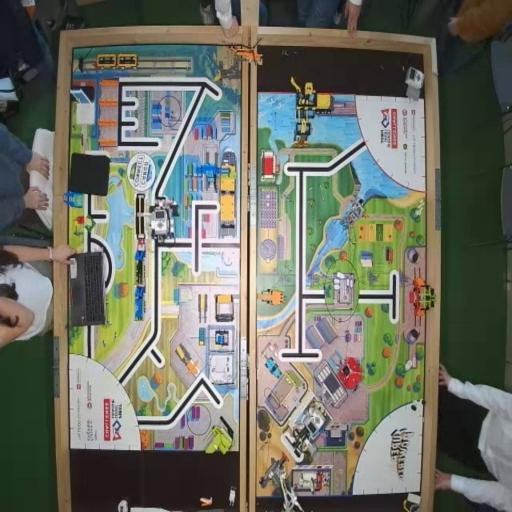lego_robot: (280, 396, 332, 465), (147, 196, 180, 246)
